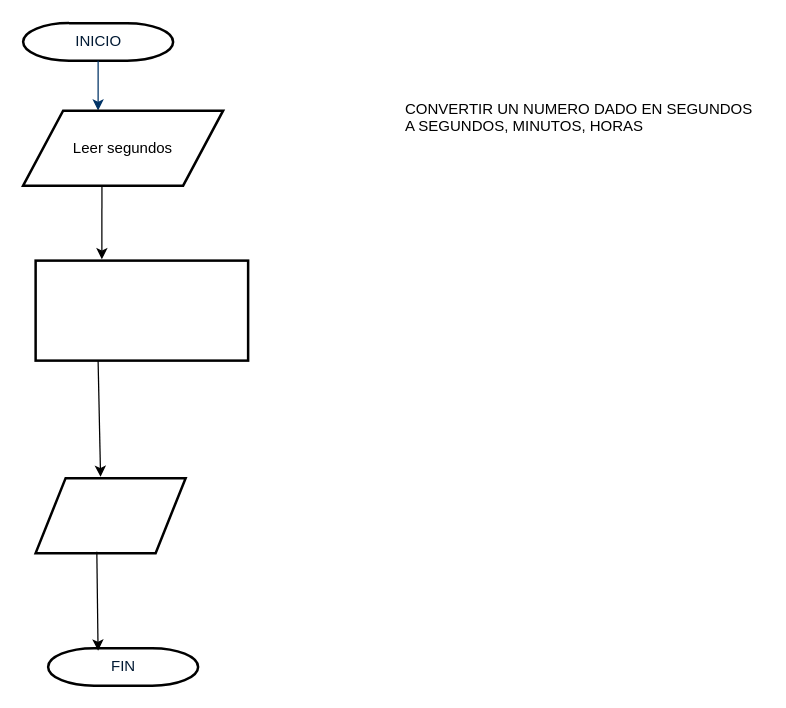
This 786x708 diagram has some shape labels left out. Here are the shapes that lost their labels. From the top down, the box of each, then its label:
(34, 259, 249, 361): h = segundos/3600 residuo = segundos % 3600 m = residuo/60 s= residuo % 60
(34, 476, 186, 554): Imprimir h:m:s
